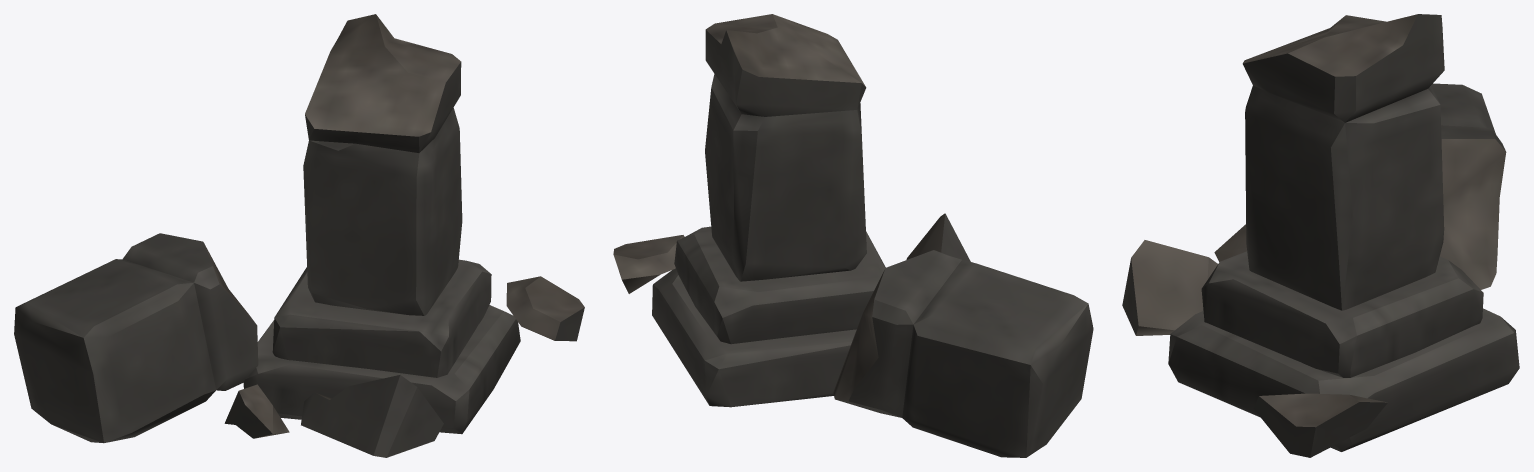
Rendered from Column3B.fbx.
The picture shows the model from 3 angles, left to right: view 1: azimuth 30°, elevation 25°; view 2: azimuth 150°, elevation 25°; view 3: azimuth 270°, elevation 25°; orthographic projection. The views are drawn at different scales.
Parts seen in each view (by area): view 1: Column3B; view 2: Column3B; view 3: Column3B.
Boxes of the visible parts, left/top/right/bottom form: Column3B: left=14, top=14, right=584, bottom=457; Column3B: left=613, top=14, right=1093, bottom=457; Column3B: left=1122, top=14, right=1519, bottom=457.
Bounding box in the file's own units: 279 × 182 × 172.
1 material, 1 textured.
